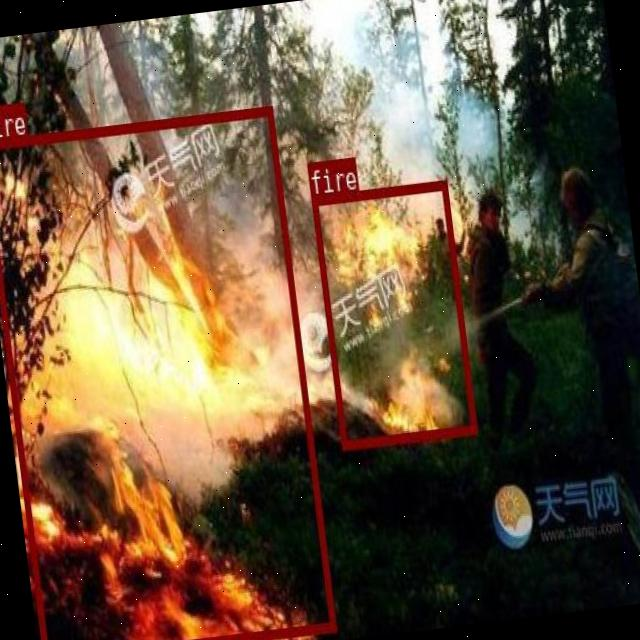fire: (0, 104, 334, 640), (310, 178, 477, 448)
